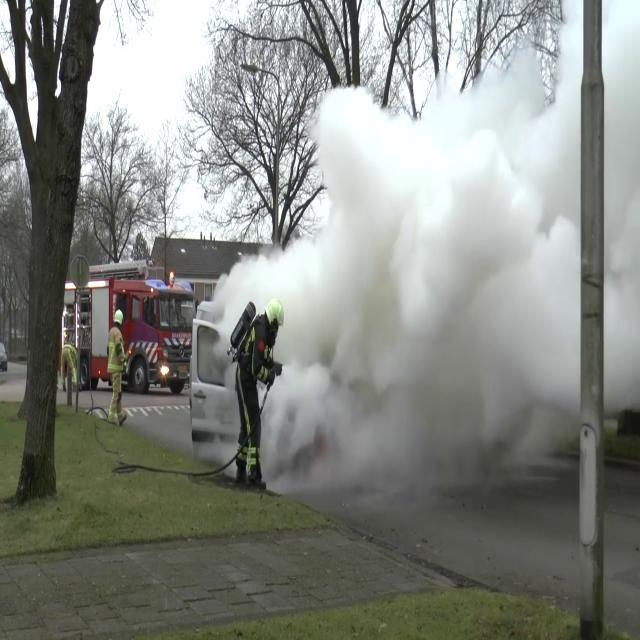Smoke: (258, 36, 580, 510), (604, 1, 640, 427)
